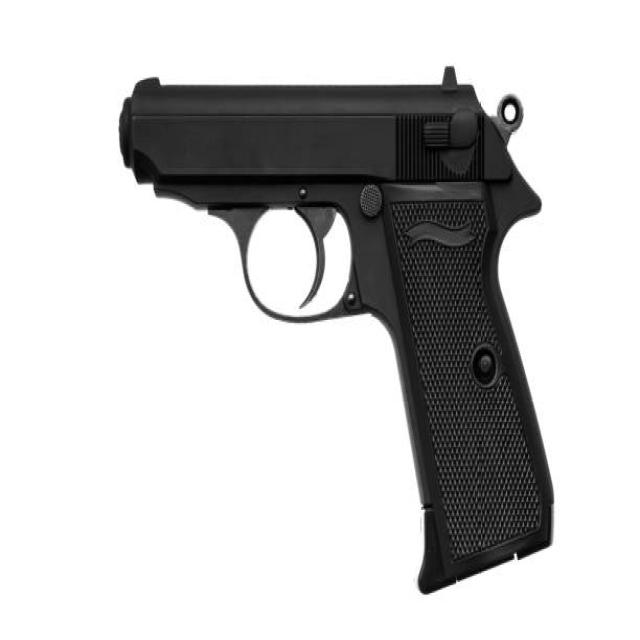pistol: (110, 61, 561, 602)
